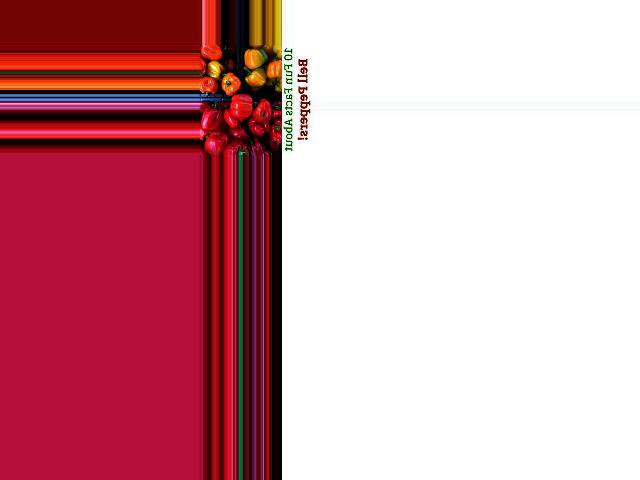bell_pepper: (265, 113, 285, 143)
